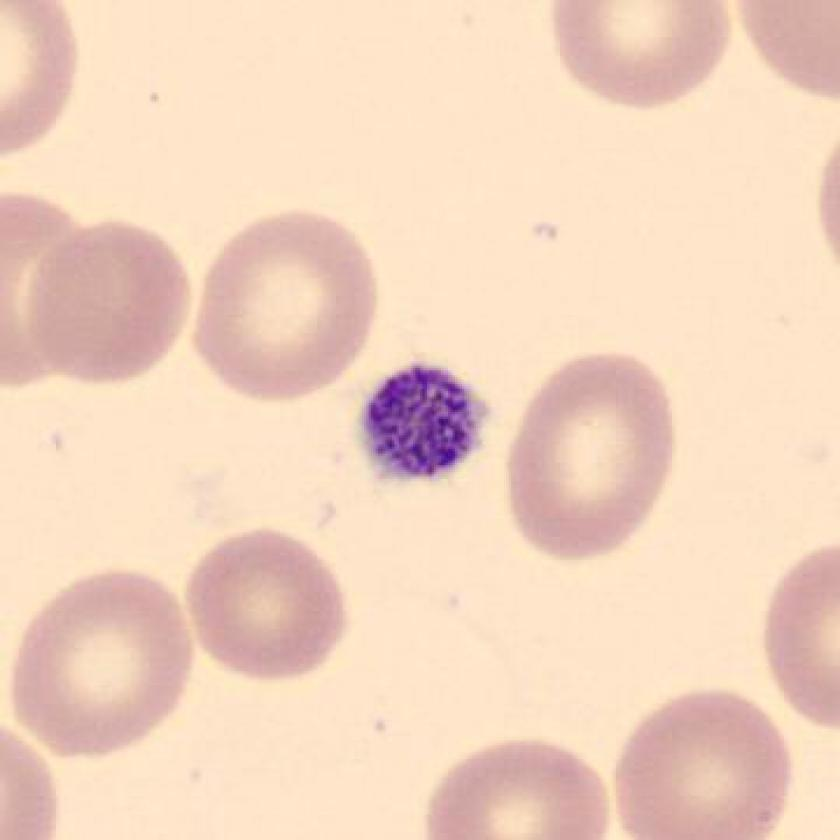platelets: (349, 351, 498, 490)
